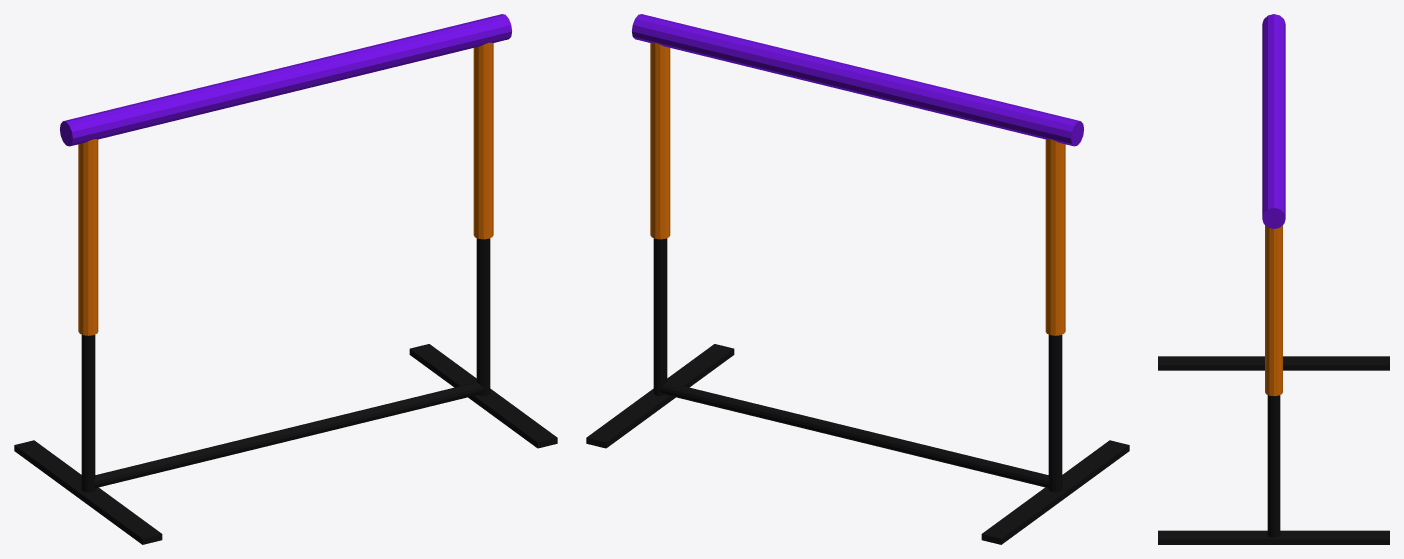
Rendered from horde.fbx.
3 renders of one model, left to right at view 1: azimuth 30°, elevation 25°; view 2: azimuth 150°, elevation 25°; view 3: azimuth 270°, elevation 25°, orthographic. The views are drawn at different scales.
Visible parts, largest first — view 1: Cylinder, Cylinder.002, Cylinder.001, Cylinder.003, Cube.003, Cube; view 2: Cylinder, Cylinder.002, Cylinder.001, Cylinder.003, Cube.003, Cube; view 3: Cylinder, Cylinder.001, Cube, Cube.003.
Part boxes in pixels (x1=…): Cylinder: x1=60, y1=14, x2=511, y2=146; Cylinder.002: x1=78, y1=139, x2=98, y2=492; Cylinder.001: x1=473, y1=42, x2=493, y2=395; Cylinder.003: x1=93, y1=382, x2=484, y2=487; Cube.003: x1=14, y1=440, x2=162, y2=544; Cube: x1=409, y1=344, x2=557, y2=448; Cylinder: x1=632, y1=14, x2=1083, y2=146; Cylinder.002: x1=1045, y1=139, x2=1065, y2=492; Cylinder.001: x1=650, y1=42, x2=670, y2=395; Cylinder.003: x1=659, y1=382, x2=1050, y2=487; Cube.003: x1=981, y1=440, x2=1129, y2=544; Cube: x1=586, y1=344, x2=734, y2=448; Cylinder: x1=1262, y1=14, x2=1285, y2=228; Cylinder.001: x1=1265, y1=225, x2=1282, y2=537; Cube: x1=1158, y1=530, x2=1389, y2=544; Cube.003: x1=1158, y1=356, x2=1389, y2=370.
Size of the model in its own units: 445 by 367 by 225.
